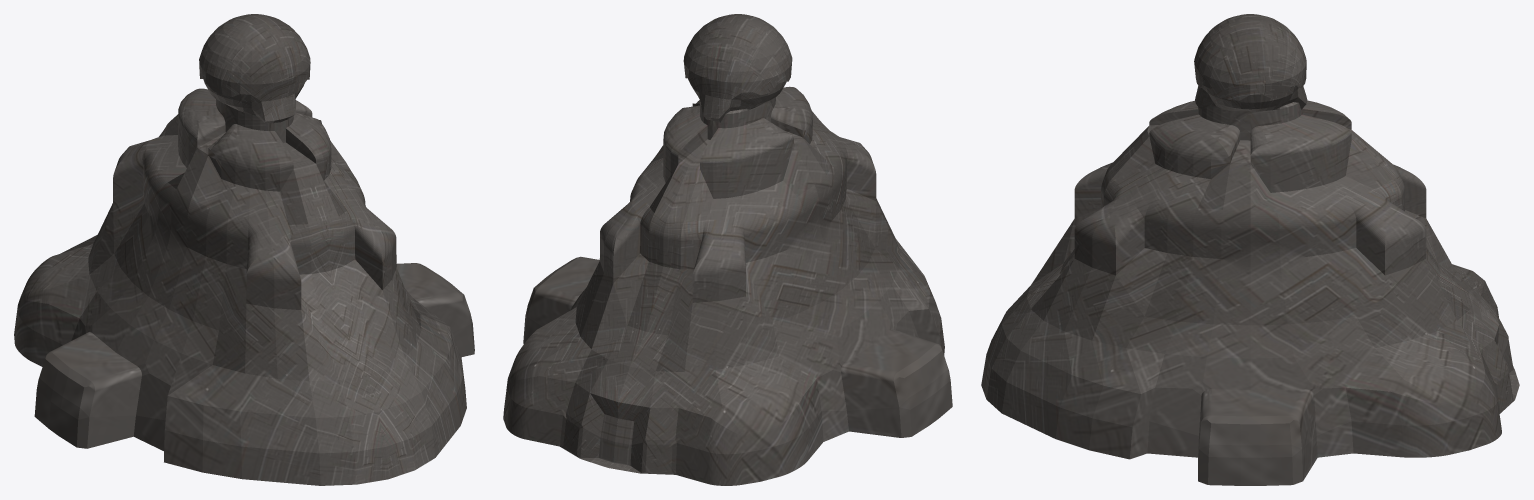
File: Unanian Factory.fbx
The picture shows the model from 3 angles, left to right: view 1: azimuth 30°, elevation 25°; view 2: azimuth 150°, elevation 25°; view 3: azimuth 270°, elevation 25°; orthographic projection. The views are drawn at different scales.
Parts seen in each view (by area): view 1: Unanian Factory, Roof; view 2: Unanian Factory, Roof; view 3: Unanian Factory, Roof.
Part boxes in pixels (x1=…): Unanian Factory: x1=14, y1=88, x2=474, y2=485; Roof: x1=199, y1=14, x2=310, y2=123; Unanian Factory: x1=503, y1=86, x2=952, y2=485; Roof: x1=683, y1=14, x2=792, y2=122; Unanian Factory: x1=981, y1=100, x2=1519, y2=485; Roof: x1=1194, y1=14, x2=1307, y2=111.
Bounding box in the file's own units: 164 × 142 × 189.
1 material, 1 textured.
